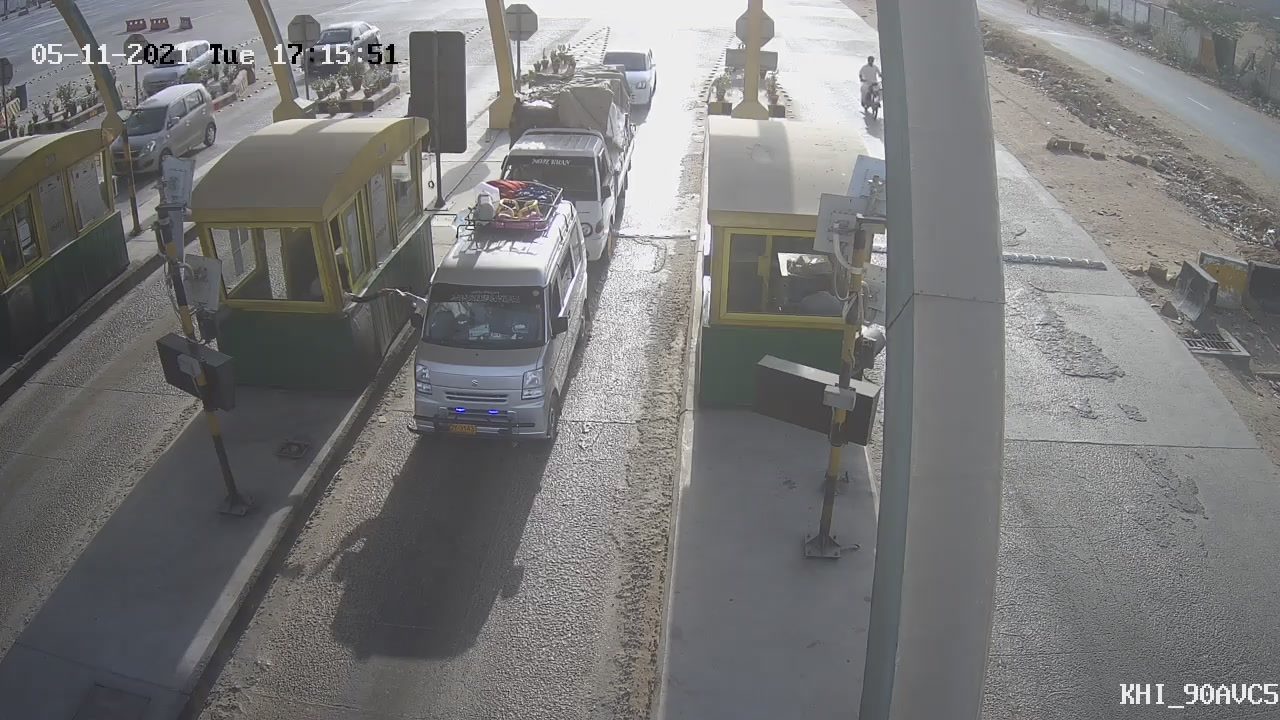F1: (372, 168, 625, 468)
